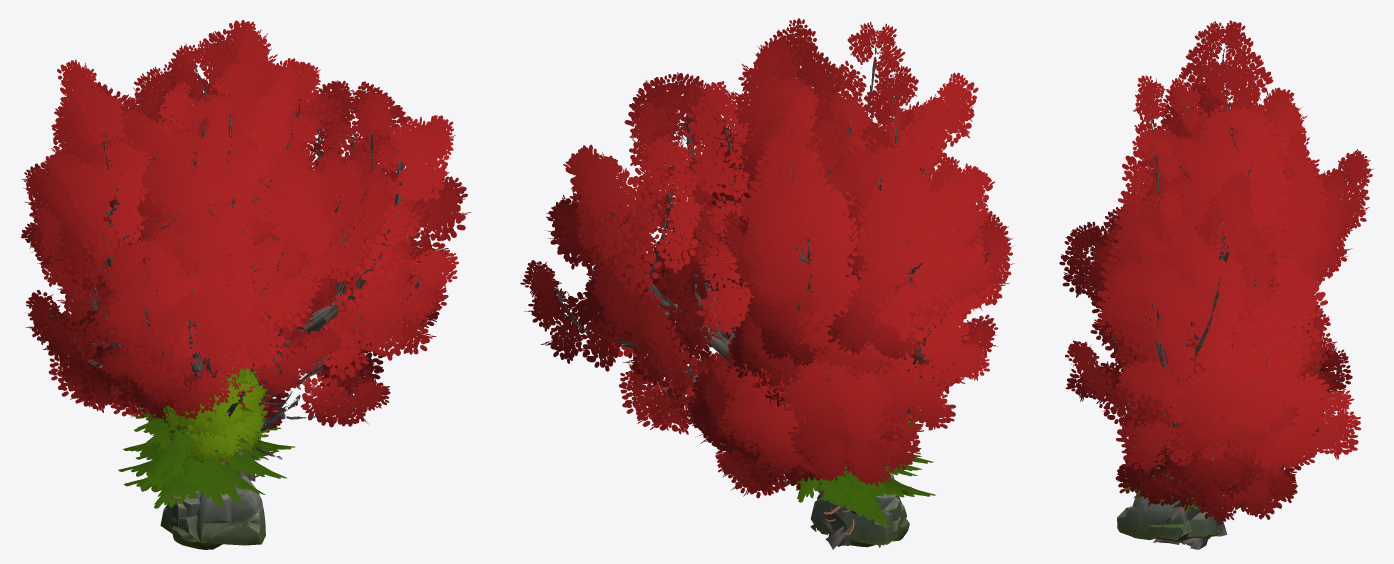
The model's file is nature.glb.
3 views of the same model, side by side, from view 1: azimuth 30°, elevation 25°; view 2: azimuth 150°, elevation 25°; view 3: azimuth 270°, elevation 25° (orthographic). The views are drawn at different scales.
Parts seen in each view (by area): view 1: TwistedTree_2, TwistedTree_1, TwistedTree_3, TwistedTree_4, TwistedTree_5, Rock_Medium_3, Pine_2, Pine_5, CommonTree_3, Pine_4, CommonTree_1, CommonTree_2 (+3 smaller); view 2: TwistedTree_1, TwistedTree_2, TwistedTree_4, TwistedTree_3, TwistedTree_5, Rock_Medium_2, Pine_5, Pine_2; view 3: TwistedTree_1, TwistedTree_4, TwistedTree_2, TwistedTree_3, TwistedTree_5, Rock_Medium_3, Rock_Medium_2.
Boxes of the visible parts, x1,y1,x2,y2 form: TwistedTree_2: (21, 59, 320, 468); TwistedTree_1: (145, 60, 470, 493); TwistedTree_3: (48, 92, 395, 419); TwistedTree_4: (66, 20, 367, 466); TwistedTree_5: (91, 98, 346, 324); Rock_Medium_3: (172, 475, 265, 549); Pine_2: (124, 404, 275, 508); Pine_5: (118, 414, 295, 503); CommonTree_3: (169, 350, 266, 440); Pine_4: (123, 371, 276, 498); CommonTree_1: (163, 376, 269, 462); CommonTree_2: (161, 362, 267, 464); TwistedTree_1: (520, 72, 884, 549); TwistedTree_2: (722, 18, 1014, 546); TwistedTree_4: (711, 37, 938, 514); TwistedTree_3: (684, 99, 1012, 545); TwistedTree_5: (710, 119, 925, 545); Rock_Medium_2: (810, 492, 897, 544); Pine_5: (786, 433, 925, 519); Pine_2: (781, 448, 935, 527); TwistedTree_1: (1065, 172, 1360, 549); TwistedTree_4: (1081, 84, 1373, 543); TwistedTree_2: (1101, 20, 1319, 542); TwistedTree_3: (1059, 163, 1352, 544); TwistedTree_5: (1111, 167, 1351, 546); Rock_Medium_3: (1117, 489, 1187, 539); Rock_Medium_2: (1187, 501, 1217, 538).
Size of the model in its own units: 17.96 by 19.18 by 12.13.
Materials: 10 (10 with a texture image).
